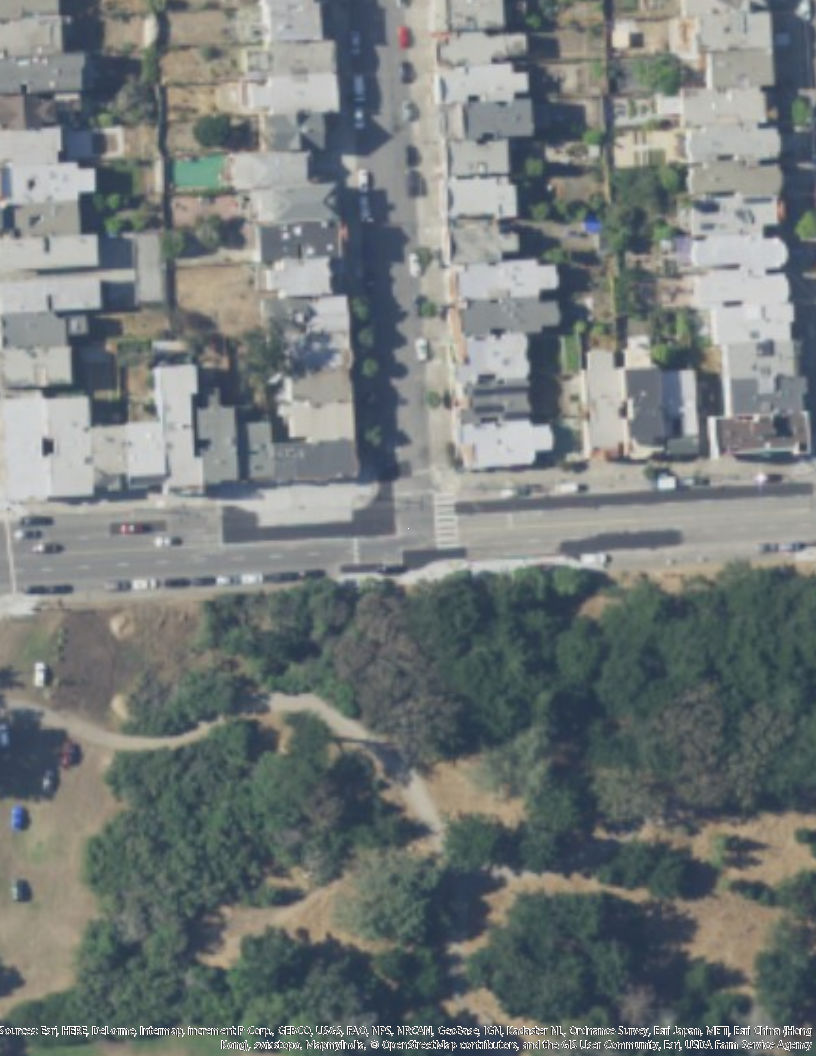zebracross: (433, 492, 462, 553)
